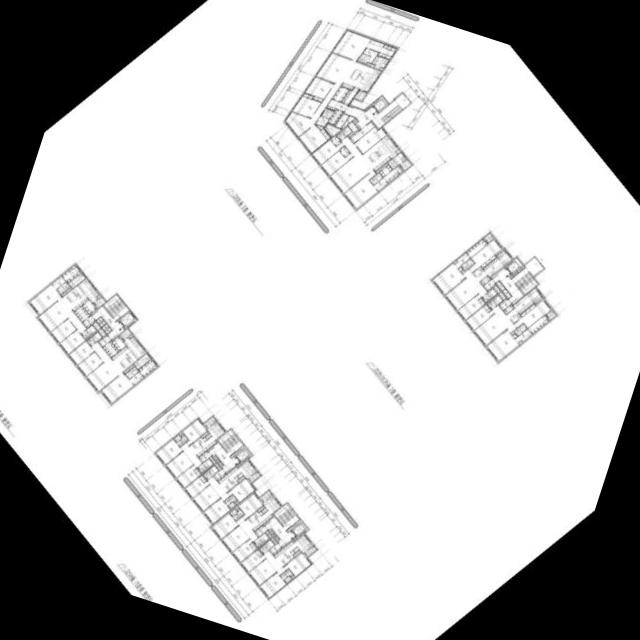background: (0, 0, 640, 640)
space_balconi: (399, 159, 411, 171), (353, 90, 366, 100)
space_bedroom: (343, 170, 377, 209), (331, 29, 371, 60), (513, 299, 551, 328), (486, 329, 519, 362), (469, 238, 501, 272), (100, 372, 133, 404), (431, 263, 465, 294), (28, 283, 61, 314), (298, 124, 331, 153), (354, 126, 386, 153), (311, 140, 344, 165), (320, 151, 352, 176), (291, 92, 320, 118), (457, 294, 485, 320), (465, 304, 493, 330), (304, 77, 333, 102), (211, 513, 238, 539), (259, 572, 286, 598), (155, 439, 182, 465), (203, 498, 230, 524), (283, 552, 311, 577), (181, 418, 206, 445), (237, 492, 262, 519), (227, 478, 255, 502), (50, 318, 76, 343), (59, 329, 84, 354), (68, 341, 94, 365), (77, 352, 102, 376), (176, 464, 200, 488), (184, 475, 209, 498), (240, 549, 265, 572), (232, 539, 256, 562), (330, 135, 340, 146), (339, 146, 349, 157)
space_dressroom: (527, 315, 548, 334), (61, 264, 81, 282), (466, 239, 486, 257), (138, 359, 157, 377), (383, 165, 402, 183), (377, 44, 397, 59), (454, 252, 469, 268), (514, 329, 532, 342), (379, 164, 391, 177)
space_elevator: (118, 311, 136, 329), (504, 257, 522, 274), (234, 447, 251, 464), (290, 522, 307, 538), (371, 96, 387, 112)
space_elevator_hall: (491, 257, 543, 304), (344, 93, 409, 129), (264, 515, 299, 547), (91, 306, 124, 339), (208, 441, 243, 472)
space_front: (349, 121, 374, 143), (73, 305, 89, 322), (102, 341, 118, 357), (332, 86, 348, 102), (327, 109, 343, 125), (326, 99, 347, 111), (82, 316, 95, 328), (254, 525, 267, 537), (498, 298, 511, 310), (269, 543, 281, 555), (198, 450, 210, 462), (213, 469, 225, 481), (483, 279, 495, 291), (98, 335, 110, 346)
space_kitchen: (244, 495, 281, 531), (362, 134, 398, 171), (506, 287, 543, 323), (472, 249, 512, 282), (188, 421, 225, 456), (111, 336, 146, 372), (274, 534, 312, 567), (61, 278, 99, 311), (218, 460, 256, 492), (341, 62, 381, 92), (111, 336, 125, 351), (82, 300, 95, 314)
space_living_room: (284, 53, 355, 137), (329, 136, 373, 193), (444, 269, 487, 310), (86, 342, 121, 392), (473, 305, 516, 345), (37, 298, 86, 333), (221, 517, 258, 552), (192, 476, 228, 511), (248, 550, 284, 585), (165, 443, 201, 478)
space_other: (387, 152, 406, 169), (340, 87, 358, 104), (133, 353, 151, 369), (68, 272, 85, 288), (371, 56, 389, 69), (340, 116, 355, 129), (325, 124, 341, 136), (335, 114, 348, 128), (230, 445, 244, 457), (286, 520, 300, 531), (348, 122, 358, 136), (376, 163, 387, 173), (479, 275, 490, 285), (503, 304, 513, 314), (61, 287, 71, 296), (123, 364, 133, 373), (502, 289, 511, 298), (496, 281, 504, 290), (92, 322, 100, 330), (498, 292, 506, 300), (98, 328, 105, 336), (495, 249, 503, 256), (493, 285, 500, 293), (534, 298, 542, 305), (214, 463, 221, 470), (104, 327, 111, 334), (270, 537, 277, 544), (201, 431, 208, 438), (517, 266, 524, 273), (265, 530, 271, 538), (363, 105, 371, 111), (237, 476, 244, 482), (257, 506, 264, 512), (209, 456, 215, 463), (99, 320, 105, 327), (101, 324, 108, 330), (293, 550, 300, 556), (510, 272, 517, 278), (366, 62, 374, 67), (96, 317, 102, 323), (316, 124, 323, 129), (395, 149, 400, 154), (216, 458, 220, 463), (128, 334, 133, 338), (275, 536, 279, 541), (353, 118, 357, 123), (378, 67, 383, 71), (272, 533, 276, 537), (291, 575, 295, 579), (219, 462, 223, 466), (269, 529, 273, 533), (213, 455, 217, 459), (235, 501, 239, 505), (518, 340, 522, 344), (453, 260, 457, 264), (510, 331, 514, 335), (179, 431, 182, 435), (460, 270, 464, 273), (293, 537, 296, 540), (235, 506, 238, 509), (237, 463, 240, 466)
space_outdoor_room: (247, 471, 260, 483), (203, 416, 215, 428), (93, 296, 105, 308), (119, 328, 131, 340), (303, 546, 316, 557), (259, 491, 271, 502), (482, 233, 493, 243), (545, 310, 555, 320)
space_staircase: (103, 294, 128, 320), (515, 272, 537, 294), (273, 503, 295, 525), (217, 429, 239, 451), (380, 104, 401, 123)
space_toilet: (357, 48, 378, 64), (366, 39, 384, 52), (259, 539, 274, 554), (481, 288, 496, 303), (80, 325, 96, 339), (203, 465, 218, 479), (86, 332, 101, 346), (253, 533, 268, 547), (197, 458, 212, 472), (336, 126, 351, 140), (487, 295, 502, 309), (129, 371, 143, 385), (373, 178, 387, 191), (52, 276, 65, 289), (232, 508, 243, 521), (176, 434, 187, 446), (315, 116, 328, 126), (280, 569, 292, 579), (224, 495, 236, 505), (320, 108, 330, 117), (129, 366, 138, 375), (513, 327, 522, 336), (325, 110, 334, 119), (518, 323, 527, 332), (465, 258, 474, 267), (56, 286, 65, 294), (125, 370, 133, 379), (374, 172, 382, 181), (369, 176, 377, 185), (461, 262, 469, 271), (61, 282, 69, 290), (283, 575, 291, 583), (229, 509, 237, 516), (227, 501, 235, 508), (173, 435, 181, 442)
